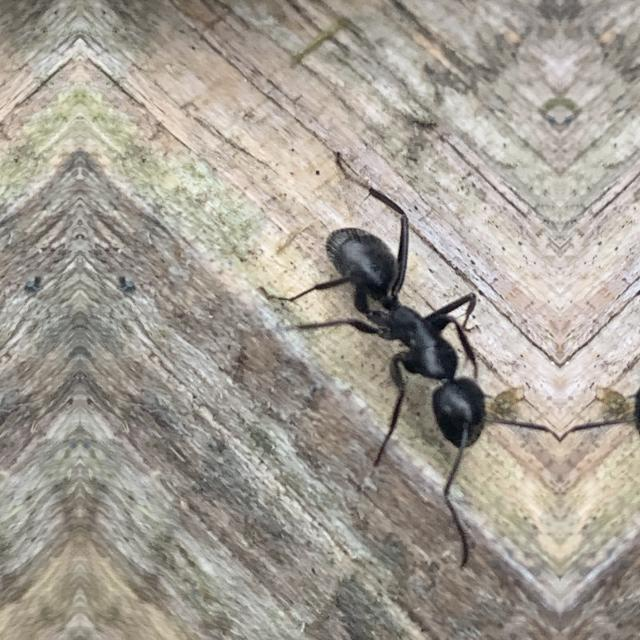Camponotus: (298, 175, 536, 483), (584, 175, 640, 483)
